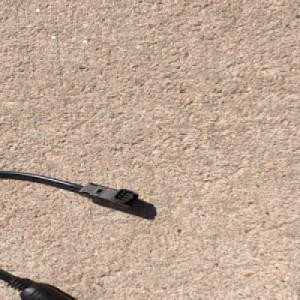Wire: (0, 169, 140, 300)
